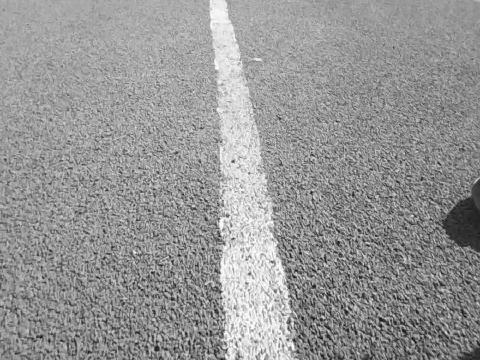Lines: (209, 0, 299, 360)
